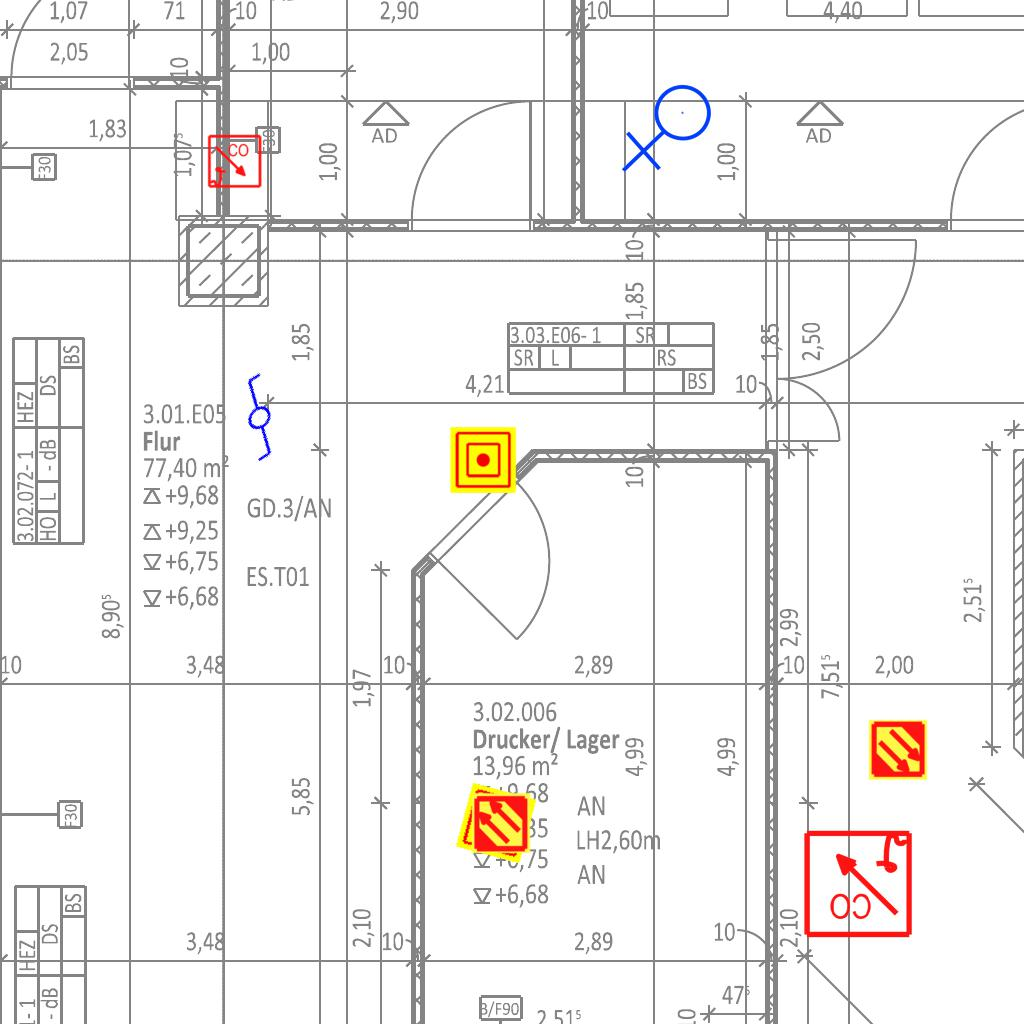ASR_Ansaugrauchmelder: (867, 719, 929, 781), (470, 792, 532, 854)
Elektroanschluss_allgemein_230V_Geraeteanschlussdose_230V: (621, 83, 720, 177)
NAM-Nichtautomatischer_Melder: (455, 782, 537, 864), (450, 427, 516, 493)
ROA_Rauchmelder_optisch_mit_Signalgeber_(Sockelsirene): (801, 826, 914, 939), (207, 134, 263, 190)
Wechselschalter: (203, 366, 309, 474)
